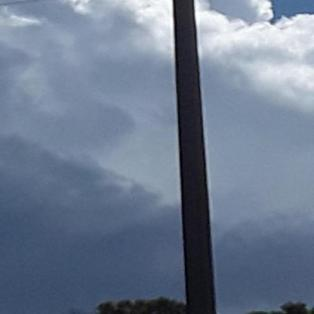Poste: (152, 0, 258, 314)
